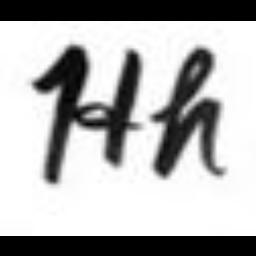h: (38, 36, 150, 186), (159, 52, 223, 178)
